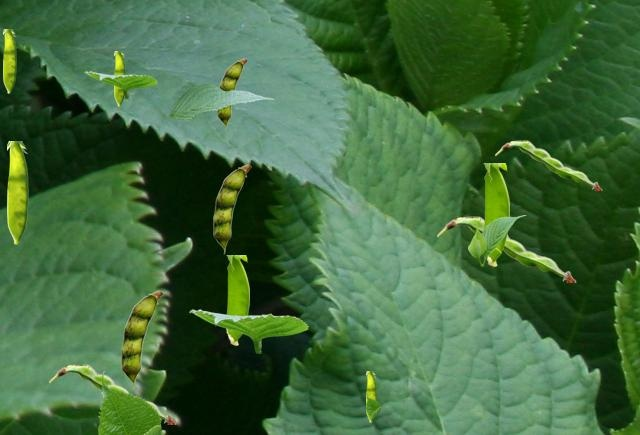pea: (437, 216, 575, 281), (49, 364, 175, 423), (495, 140, 601, 189), (121, 290, 162, 388), (213, 164, 250, 253), (483, 163, 508, 265), (217, 58, 246, 129), (7, 141, 27, 243), (226, 255, 248, 344), (3, 29, 15, 92), (114, 51, 124, 105), (366, 371, 375, 421)
